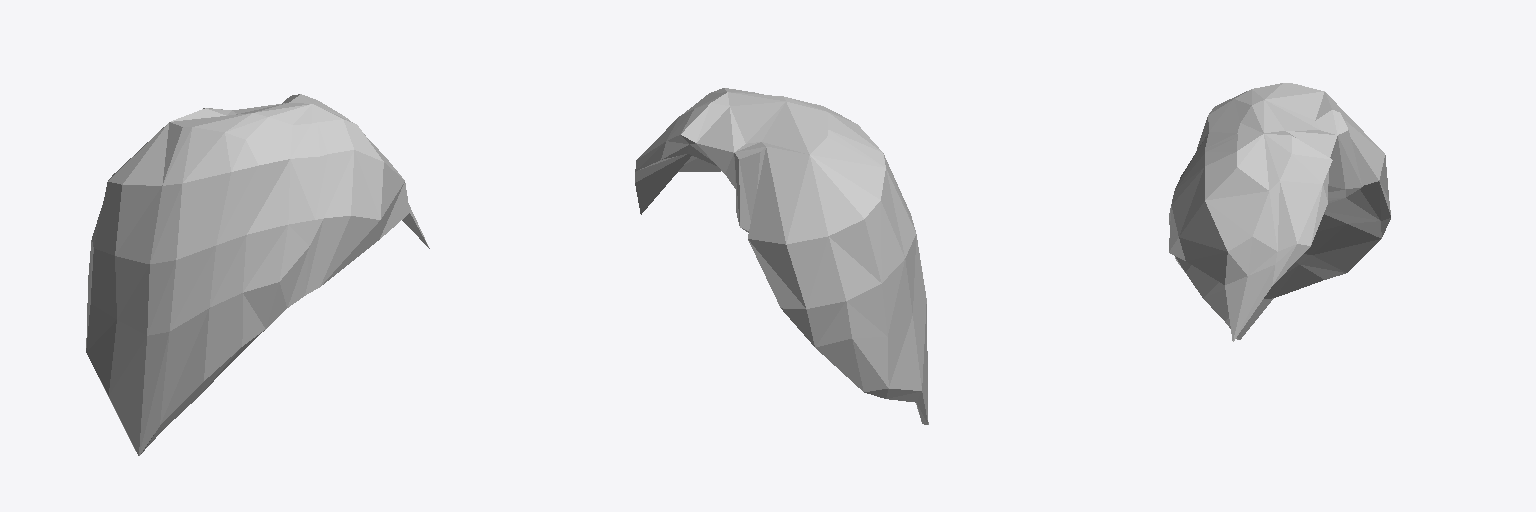
Rendered from foie_grillefine2.obj.
3 views of the same model, side by side, from view 1: azimuth 30°, elevation 25°; view 2: azimuth 150°, elevation 25°; view 3: azimuth 270°, elevation 25° (orthographic).
Visible parts, largest first — view 1: 1_Visual; view 2: 1_Visual; view 3: 1_Visual.
Part boxes in pixels (bbox=[...]): 1_Visual: bbox=[86, 94, 429, 455]; 1_Visual: bbox=[635, 88, 928, 424]; 1_Visual: bbox=[1169, 83, 1390, 341].
Size of the model in its own units: 6.74 by 6.46 by 4.31.